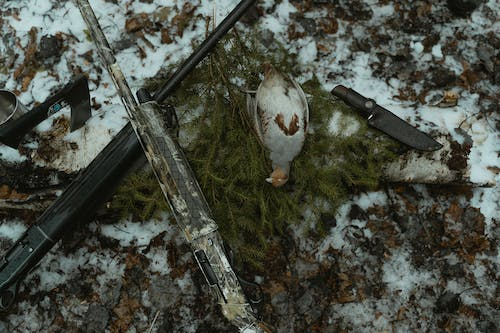gun: (0, 0, 260, 318), (74, 0, 269, 333)
knife: (329, 82, 446, 154)
